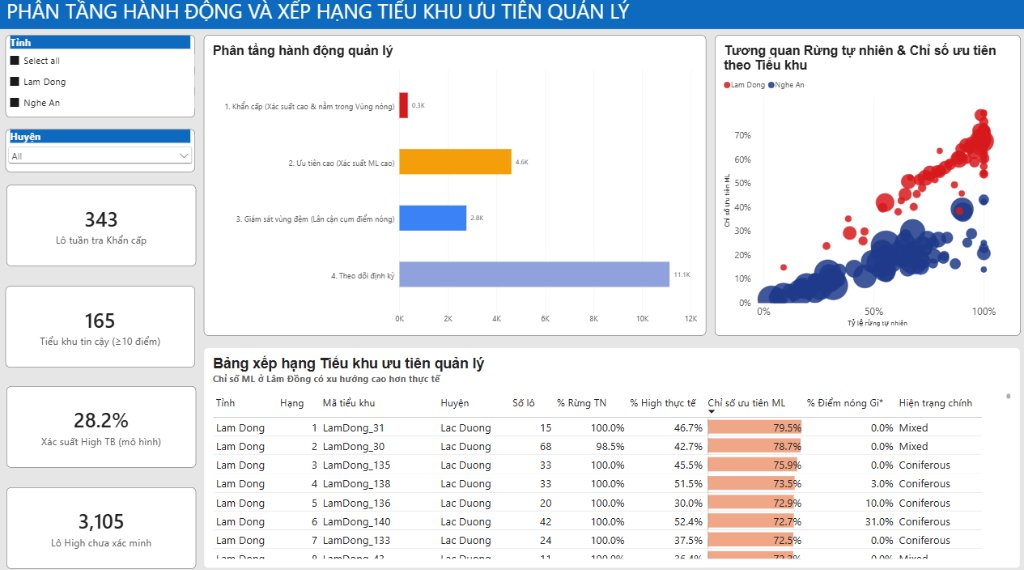

This screenshot's page, from the dashboard's own definition file:
{"tool":"powerbi","page":{"name":"Hành động","canvas":[1920,1080],"ordinal":2},"visuals":[{"type":"shape","box":[0,0,1920,58.3],"z":0},{"type":"textbox","box":[14.8,0,1164.8,70.4],"z":1000},{"type":"clusteredBarChart","title":"Phân tầng hành động quản lý","fields":{"Category":["redd vw_patrol_priority_queue.action_tier"],"Y":["CountNonNull(redd vw_patrol_priority_queue.id)"]},"box":[383.3,70.4,937,561.1],"z":3000},{"type":"scatterChart","title":"Tương quan Rừng tự nhiên & Chỉ số ưu tiên theo Tiểu khu","fields":{"Category":["redd dim_subzone.spatial_group"],"Series":["redd dim_subzone.province"],"Size":["Sum(redd dim_subzone.n_points)"],"X":["Sum(redd dim_subzone.share_natural)"],"Y":["redd dim_subzone.priority_index"]},"box":[1335.2,70.4,570.4,561.1],"z":4000},{"type":"slicer","title":"Tỉnh","fields":{"Values":["redd dim_subzone.province"]},"box":[13,70.4,353.7,153.7],"z":5000},{"type":"tableEx","title":"Bảng xếp hạng Tiểu khu ưu tiên quản lý","fields":{"Values":["redd dim_subzone.province","redd dim_subzone.rank_in_province","redd dim_subzone.spatial_group","redd dim_subzone.district","redd dim_subzone.n_points","redd dim_subzone.share_natural","redd dim_subzone.share_high_actual","redd dim_subzone.priority_index","redd dim_subzone.share_hotspot","redd dim_subzone.main_land_cover"]},"box":[383.3,653.7,1522.2,411.1],"z":6000},{"type":"card","fields":{"Values":["CountNonNull(redd vw_patrol_priority_queue.id)"]},"box":[14.8,348.9,353.7,151.9],"z":7000},{"type":"slicer","title":"Tỉnh","fields":{"Values":["redd dim_subzone.district"]},"box":[13,245.2,353.7,79.6],"z":8000},{"type":"card","fields":{"Values":["CountNonNull(redd dim_subzone.spatial_group)"]},"box":[13,537.2,353.7,151.9],"z":9000},{"type":"card","fields":{"Values":["redd fact_forest_points.Avg_Prob_High"]},"box":[14.8,725.4,353.7,151.9],"z":10000},{"type":"card","fields":{"Values":["redd fact_forest_points.High_Points"]},"box":[14.8,913.7,353.7,151.9],"z":11000}]}

Visuals, with their boxes in screenshot pixels (x1, y1, x2, y2), scaled from the page's 1920x1080 canvas onto the 1024x570 screenshot:
shape: x1=0, y1=0, x2=1023, y2=31
textbox: x1=8, y1=0, x2=629, y2=37
"Phân tầng hành động quản lý" clusteredBarChart: x1=204, y1=37, x2=704, y2=333
"Tương quan Rừng tự nhiên & Chỉ số ưu tiên theo Tiểu khu" scatterChart: x1=712, y1=37, x2=1016, y2=333
"Tỉnh" slicer: x1=7, y1=37, x2=196, y2=118
"Bảng xếp hạng Tiểu khu ưu tiên quản lý" tableEx: x1=204, y1=345, x2=1016, y2=562
card - CountNonNull(redd vw_patrol_priority_queue.id): x1=8, y1=184, x2=197, y2=264
"Tỉnh" slicer: x1=7, y1=129, x2=196, y2=171
card - CountNonNull(redd dim_subzone.spatial_group): x1=7, y1=284, x2=196, y2=364
card - redd fact_forest_points.Avg_Prob_High: x1=8, y1=383, x2=197, y2=463
card - redd fact_forest_points.High_Points: x1=8, y1=482, x2=197, y2=562
